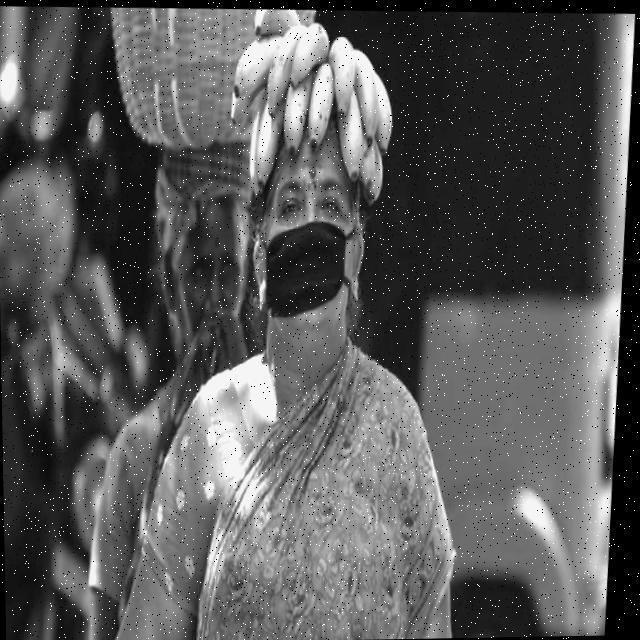mask: (260, 233, 369, 320)
no_gloves: (203, 0, 403, 199)
